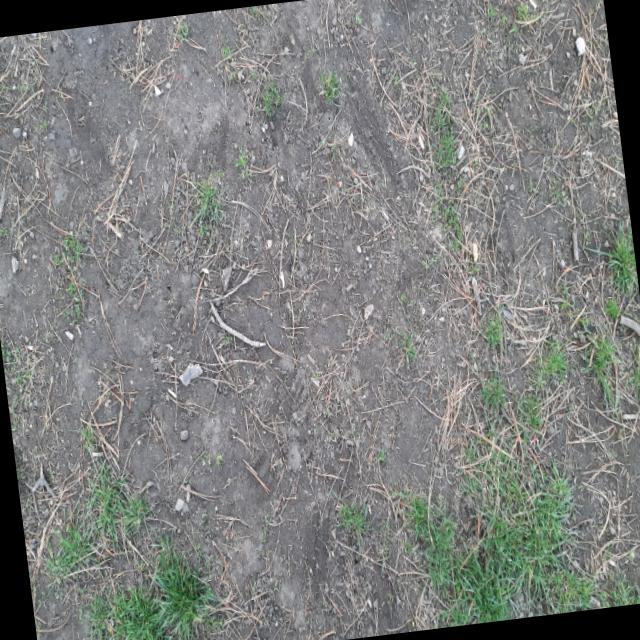grass: (426, 454, 592, 623), (154, 551, 212, 638), (114, 589, 164, 640)
white-sand: (0, 0, 640, 640)
